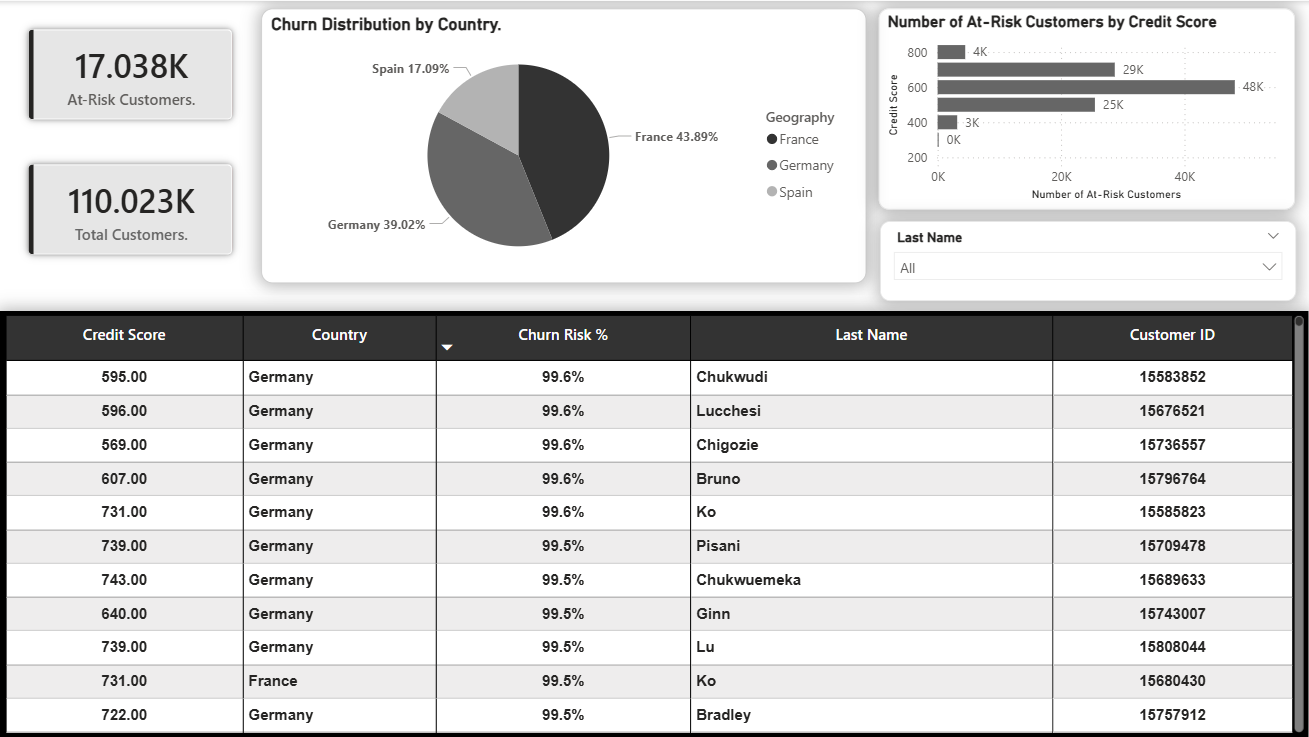

This screenshot's page, from the dashboard's own definition file:
{"tool":"powerbi","page":{"name":"Page 1","canvas":[1280,720],"ordinal":0},"visuals":[{"type":"cardVisual","fields":{"Data":["CountNonNull(final_churn_predictions.id)"]},"box":[0,132.1,255,144],"z":0},{"type":"cardVisual","fields":{"Data":["CountNonNull(final_churn_predictions.id)"]},"box":[0,0,255.6,144.3],"z":1000},{"type":"pieChart","title":"Churn Distribution by Country.","fields":{"Category":["final_churn_predictions.Geography"],"Y":["Sum(final_churn_predictions.id)"]},"box":[255.6,7.3,591.9,269],"z":2000},{"type":"tableEx","fields":{"Values":["final_churn_predictions.CreditScore","final_churn_predictions.Geography","final_churn_predictions.Churn_Probability","final_churn_predictions.Surname","final_churn_predictions.CustomerId"]},"box":[0,303.3,1280.3,417],"z":3000},{"type":"clusteredBarChart","fields":{"Category":["final_churn_predictions.CreditScore (bins)"],"Y":["CountNonNull(final_churn_predictions.Churn_Probability)"]},"box":[859.7,7.3,407.2,196.9],"z":4000},{"type":"slicer","fields":{"Values":["final_churn_predictions.Surname"]},"box":[860.9,215.2,407.2,78.3],"z":5000}]}

Visuals, with their boxes in screenshot pixels (x1, y1, x2, y2), scaled from the page's 1280x720 canvas onto the 1309x737 screenshot:
cardVisual - CountNonNull(final_churn_predictions.id): 0:135:261:283
cardVisual - CountNonNull(final_churn_predictions.id): 0:0:261:148
"Churn Distribution by Country." pieChart: 261:7:867:283
tableEx - final_churn_predictions.CreditScore x final_churn_predictions.Geography: 0:310:1308:736
clusteredBarChart - final_churn_predictions.CreditScore (bins) x CountNonNull(final_churn_predictions.Churn_Probability): 879:7:1296:209
slicer - final_churn_predictions.Surname: 880:220:1297:300
